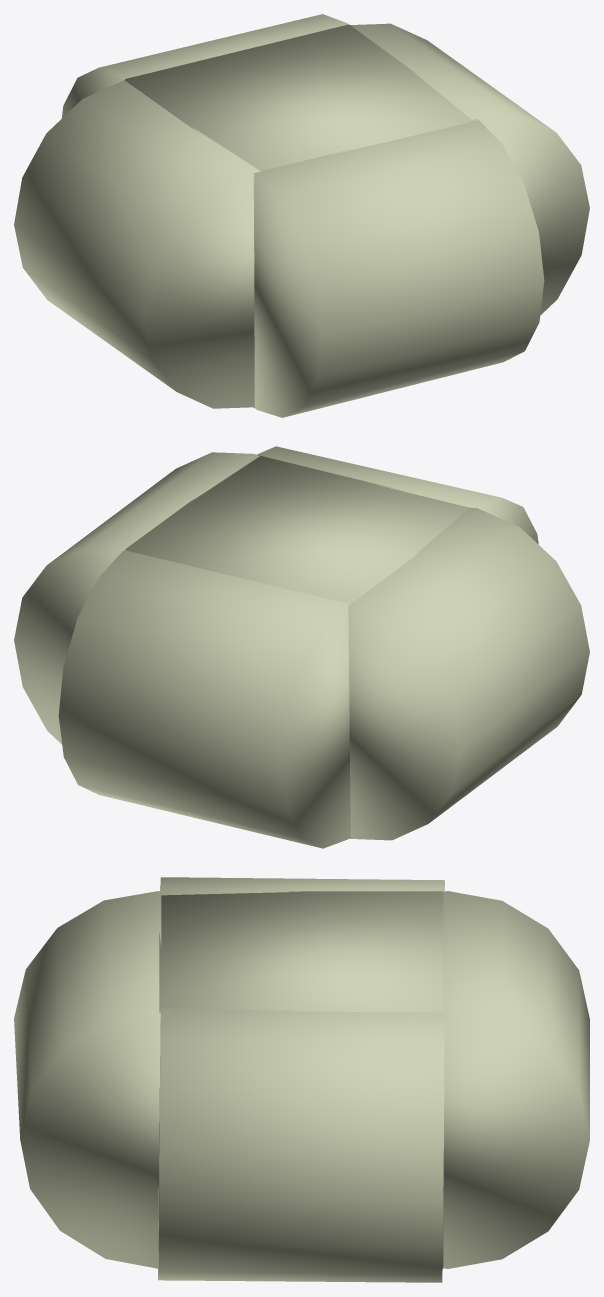
File: CloudModel.dae
3 renders of one model, top to bottom at view 1: azimuth 30°, elevation 25°; view 2: azimuth 150°, elevation 25°; view 3: azimuth 270°, elevation 25°, orthographic. The views are drawn at different scales.
Parts seen in each view (by area): view 1: Cube1-0; view 2: Cube1-0; view 3: Cube1-0.
Part boxes in pixels (bbox=[...]): Cube1-0: bbox=[14, 14, 589, 417]; Cube1-0: bbox=[14, 446, 589, 848]; Cube1-0: bbox=[14, 877, 589, 1282].
Size of the model in its own units: 3.99 by 2.02 by 4.06.
